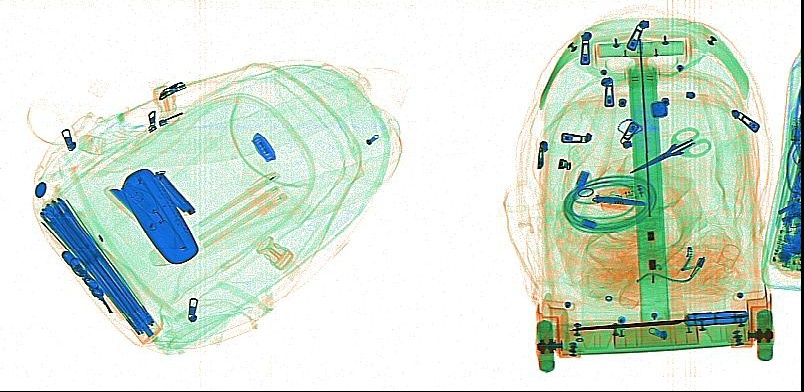knife: (566, 309, 749, 332), (102, 183, 156, 233), (150, 171, 195, 214), (589, 191, 646, 206)
scissors: (627, 125, 712, 175)
